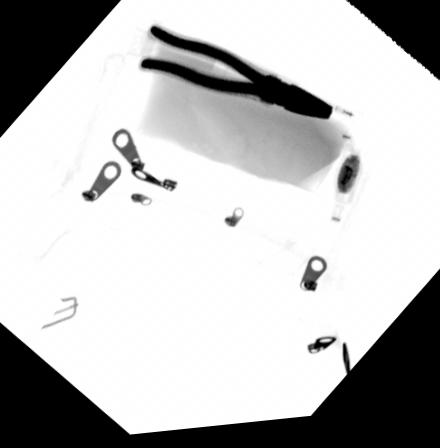Pliers: (136, 25, 334, 126)
